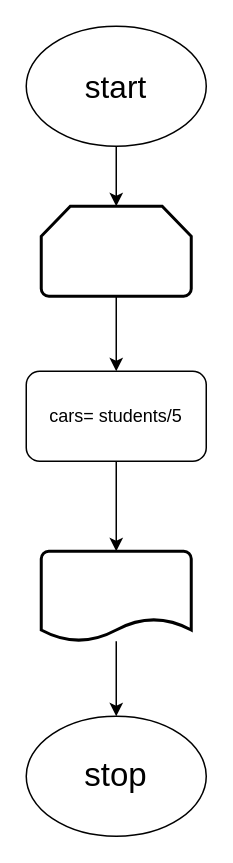
This 233x863 diagram has some shape labels left out. The shapes that lost their labels are listed below. From the top down, each one's box as (x1, y1, x2, y2) in pixels, then its label:
(39, 204, 192, 297): students
(39, 549, 192, 642): cars
